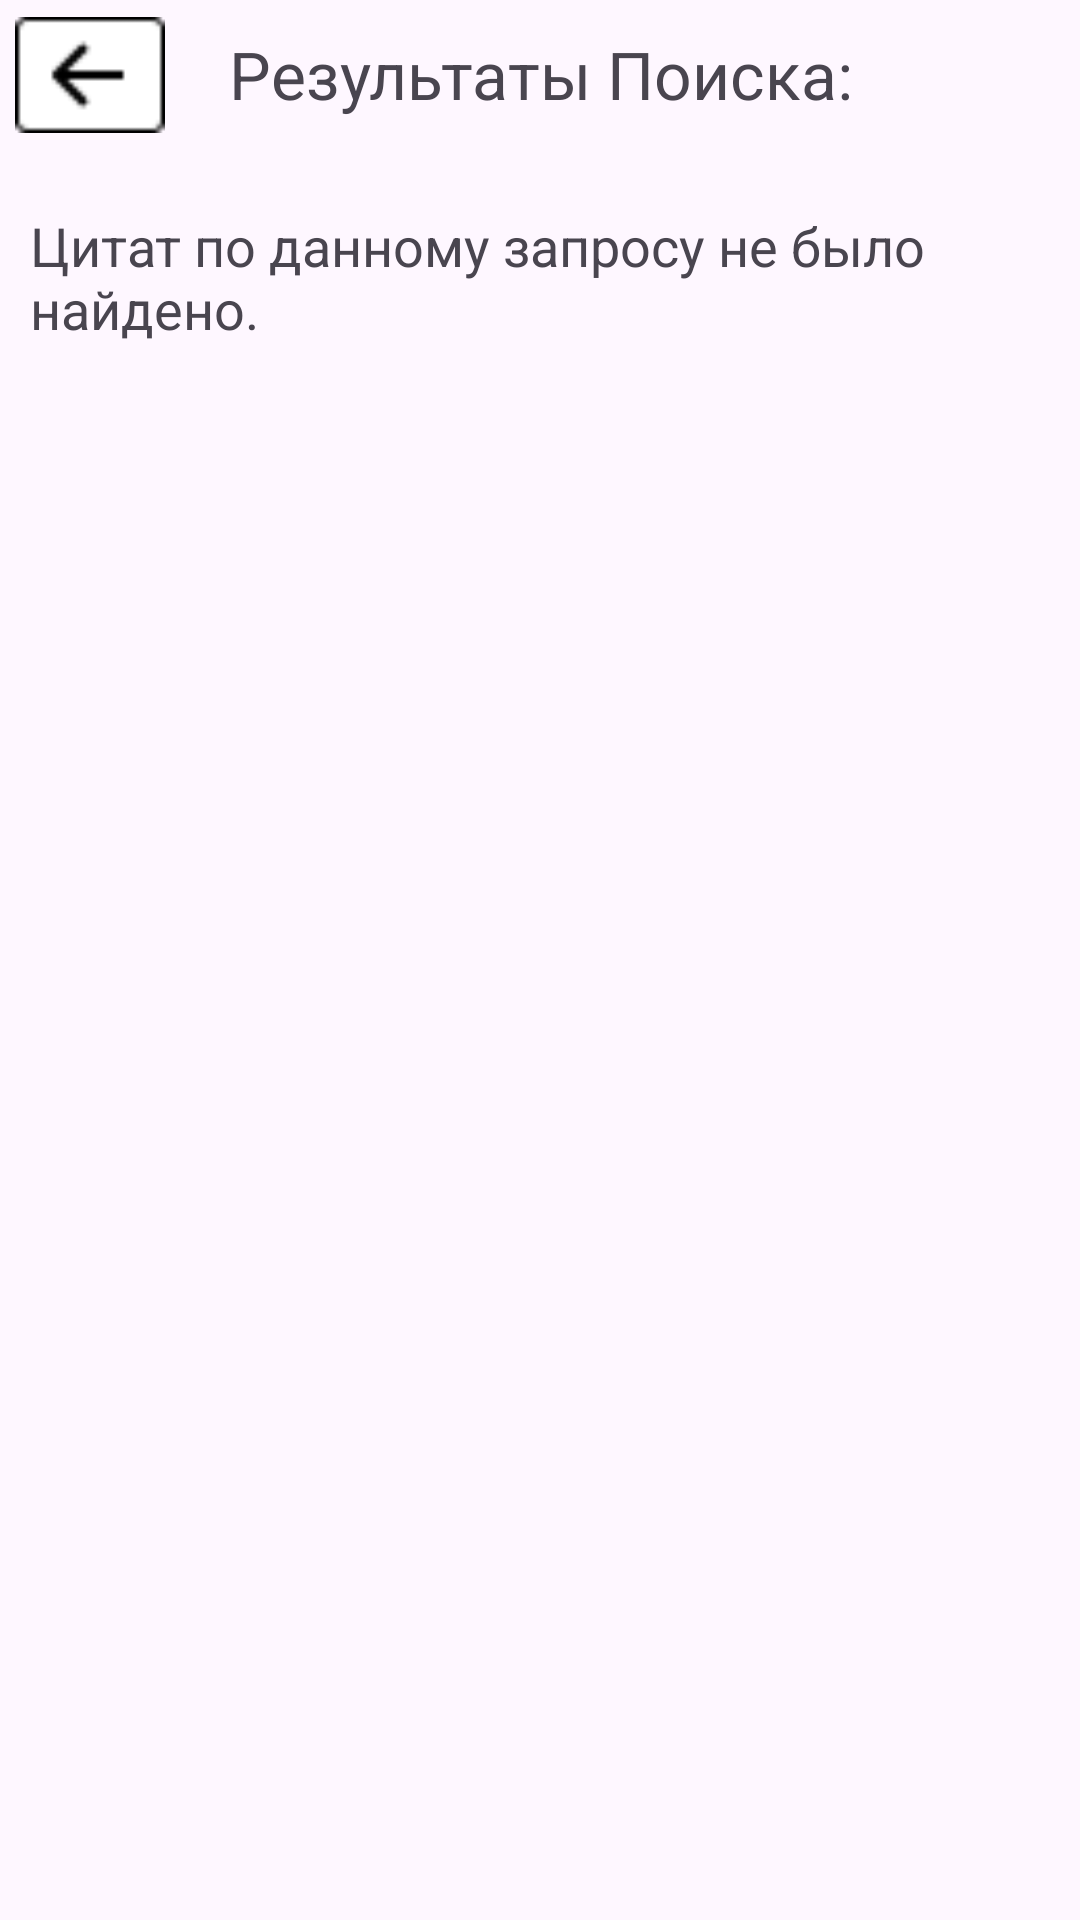

Icon bounding boxes for this 1080 × 1920 phone screenshot, format (x1, y1, x2, y2):
arrow left: (15, 17, 165, 133)
